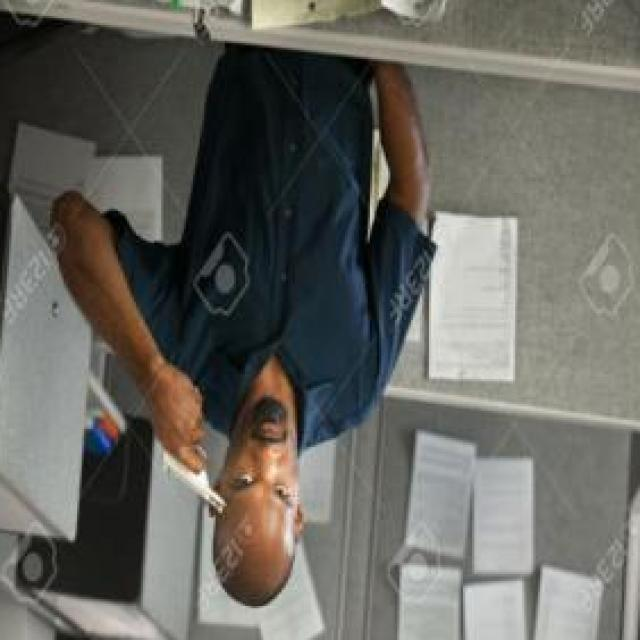pistol: (156, 370, 232, 524)
